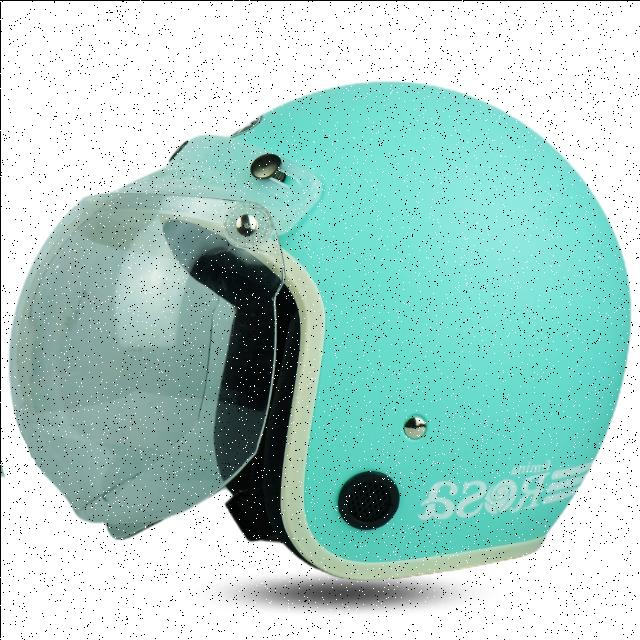Helmet: (6, 78, 632, 584)
